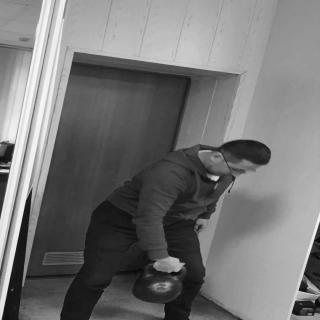kettlebell: (134, 261, 191, 305)
